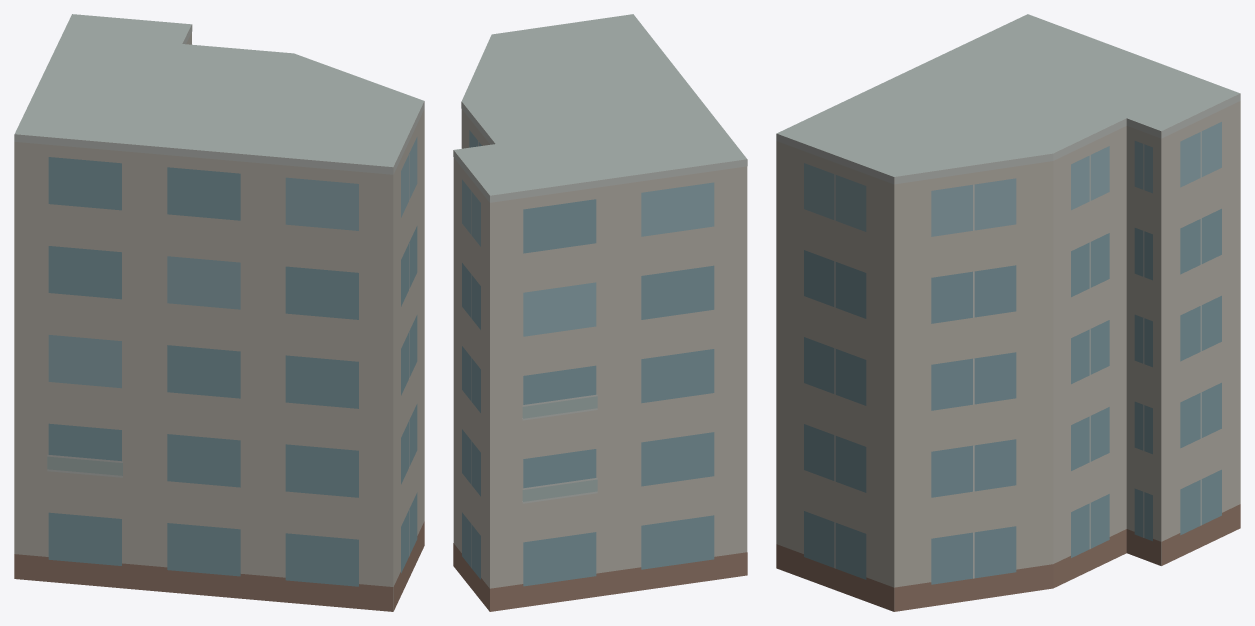
File: survey-upis-32985355.glb
3 views of the same model, side by side, from view 1: azimuth 30°, elevation 25°; view 2: azimuth 150°, elevation 25°; view 3: azimuth 270°, elevation 25° (orthographic). The views are drawn at different scales.
Parts seen in each view (by area): view 1: survey-upis-32985355.tmp; view 2: survey-upis-32985355.tmp; view 3: survey-upis-32985355.tmp.
Boxes of the visible parts, box(x1,y1,x2,y2) form: survey-upis-32985355.tmp: box(14, 14, 424, 611); survey-upis-32985355.tmp: box(453, 14, 747, 611); survey-upis-32985355.tmp: box(776, 14, 1240, 611).
Bounding box in the file's own units: 11.51 × 14.3 × 13.84.
